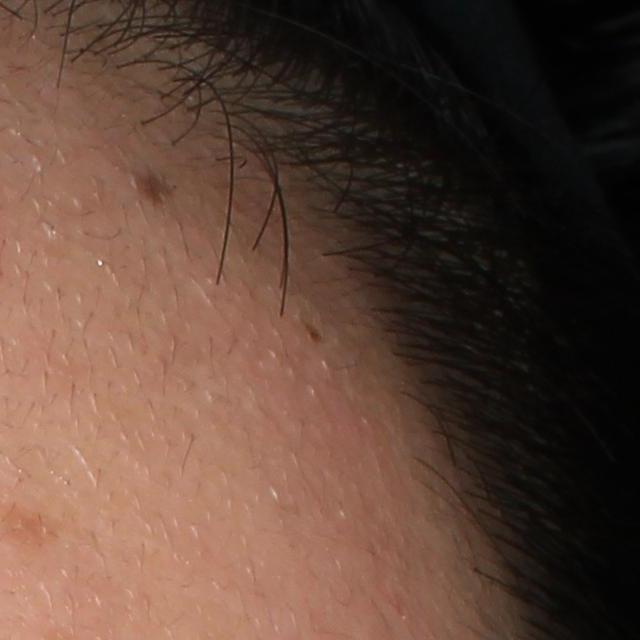nevus: (136, 169, 169, 209)
